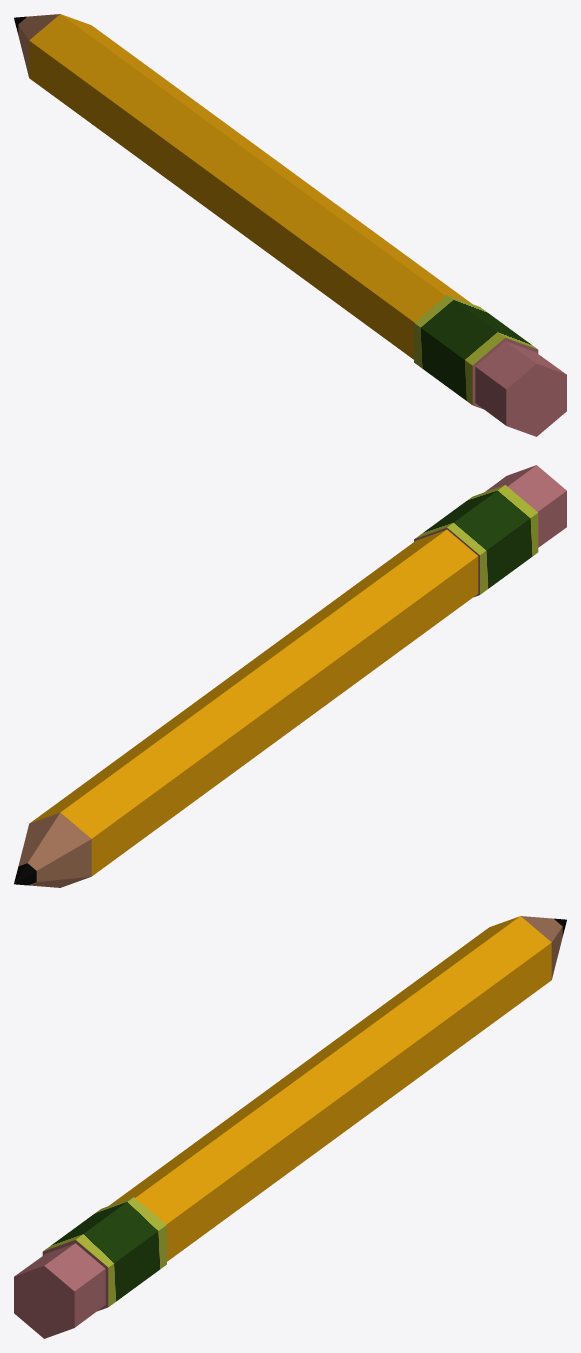
The model's file is PENCIL_FBX.fbx.
3 renders of one model, top to bottom at view 1: azimuth 30°, elevation 25°; view 2: azimuth 150°, elevation 25°; view 3: azimuth 330°, elevation 25°, orthographic.
Parts seen in each view (by area): view 1: Cylinder; view 2: Cylinder; view 3: Cylinder.
Part boxes in pixels (x1,y1,x2,y2): Cylinder: (14, 14, 566, 436); Cylinder: (14, 465, 566, 887); Cylinder: (14, 916, 566, 1338).
Size of the model in its own units: 36.46 by 42.1 by 502.
